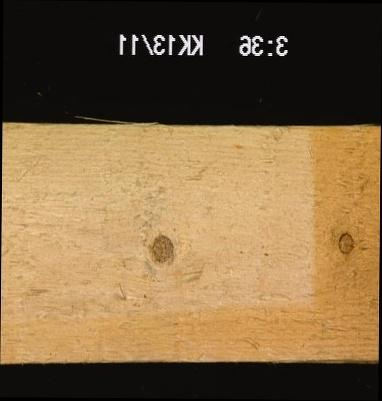dry_knot: (336, 230, 355, 255)
sound_knot: (150, 232, 174, 265)
